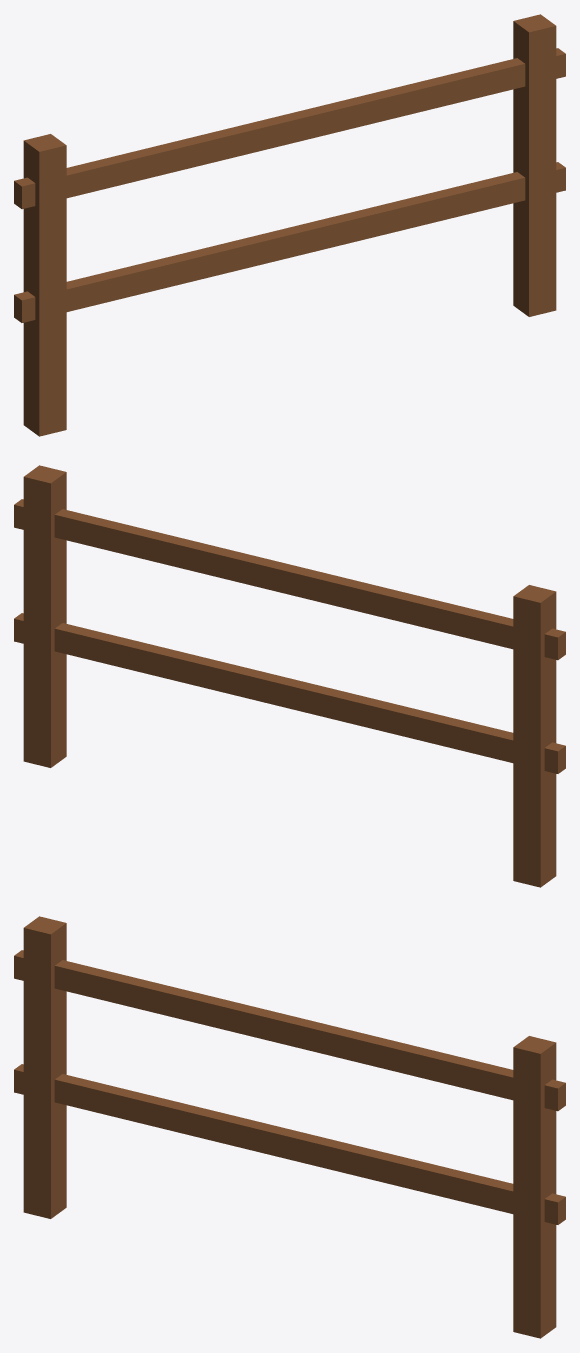
The model's file is fence.glb.
The picture shows the model from 3 angles, top to bottom: view 1: azimuth 30°, elevation 25°; view 2: azimuth 150°, elevation 25°; view 3: azimuth 330°, elevation 25°; orthographic projection.
Visible parts, largest first — view 1: fence; view 2: fence; view 3: fence.
Boxes of the visible parts, bbox=[...] form: fence: bbox=[14, 14, 565, 436]; fence: bbox=[14, 465, 565, 887]; fence: bbox=[14, 916, 565, 1338].
Bounding box in the file's own units: 2 × 1 × 0.1.
